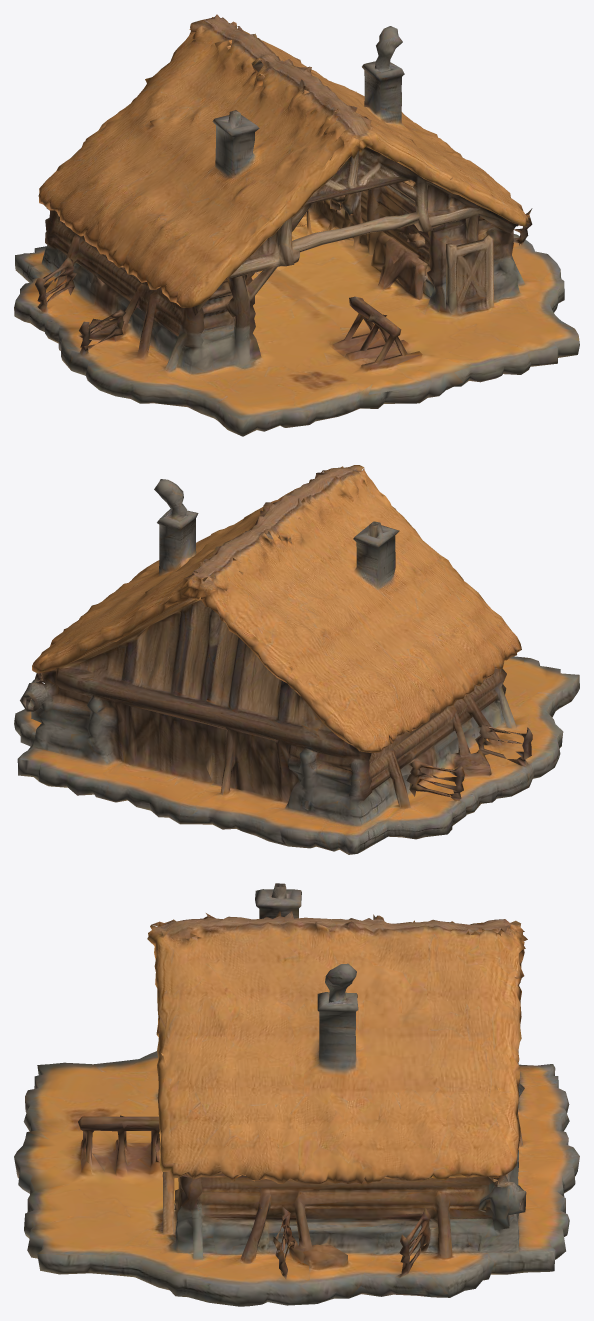
Rendered from siege-workshop.glb.
3 renders of one model, top to bottom at view 1: azimuth 30°, elevation 25°; view 2: azimuth 150°, elevation 25°; view 3: azimuth 270°, elevation 25°, orthographic. The views are drawn at different scales.
Size of the model in its own units: 1.91 by 0.977 by 1.77.
1 material, 1 textured.
